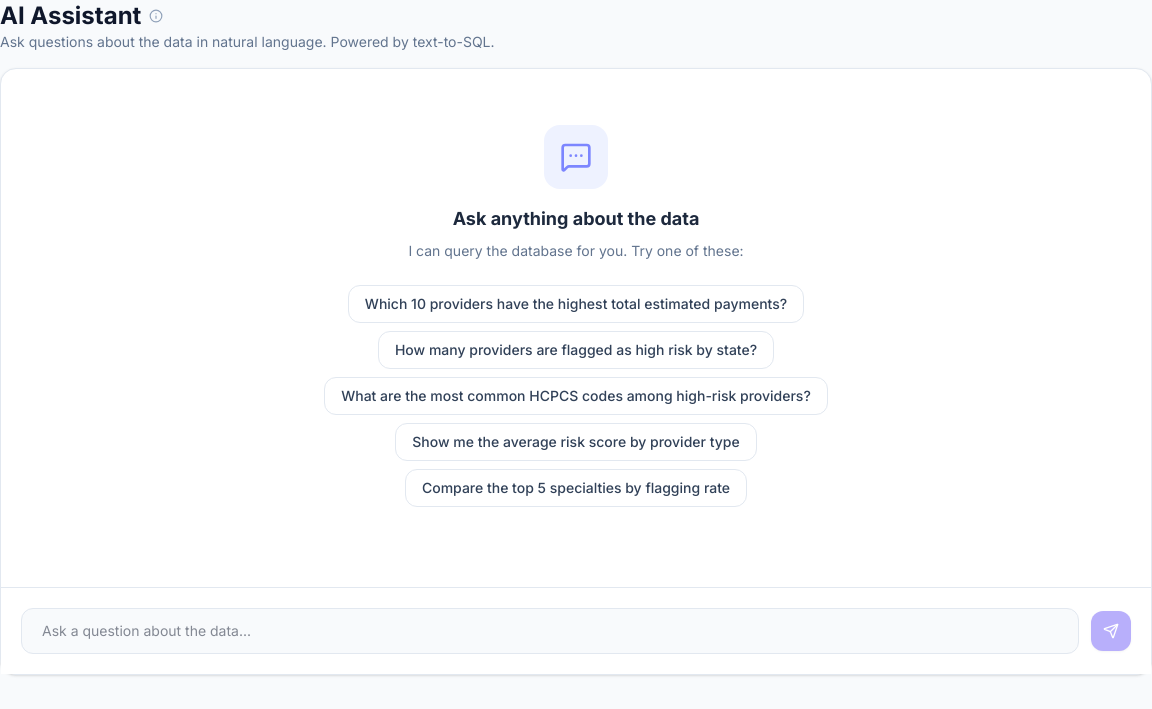
Test: Analytics › renders a pie chart response
Step 1. Click the button "Compare the top 5 specialties by flagging rate" → (576, 488), box [405, 469, 747, 507]
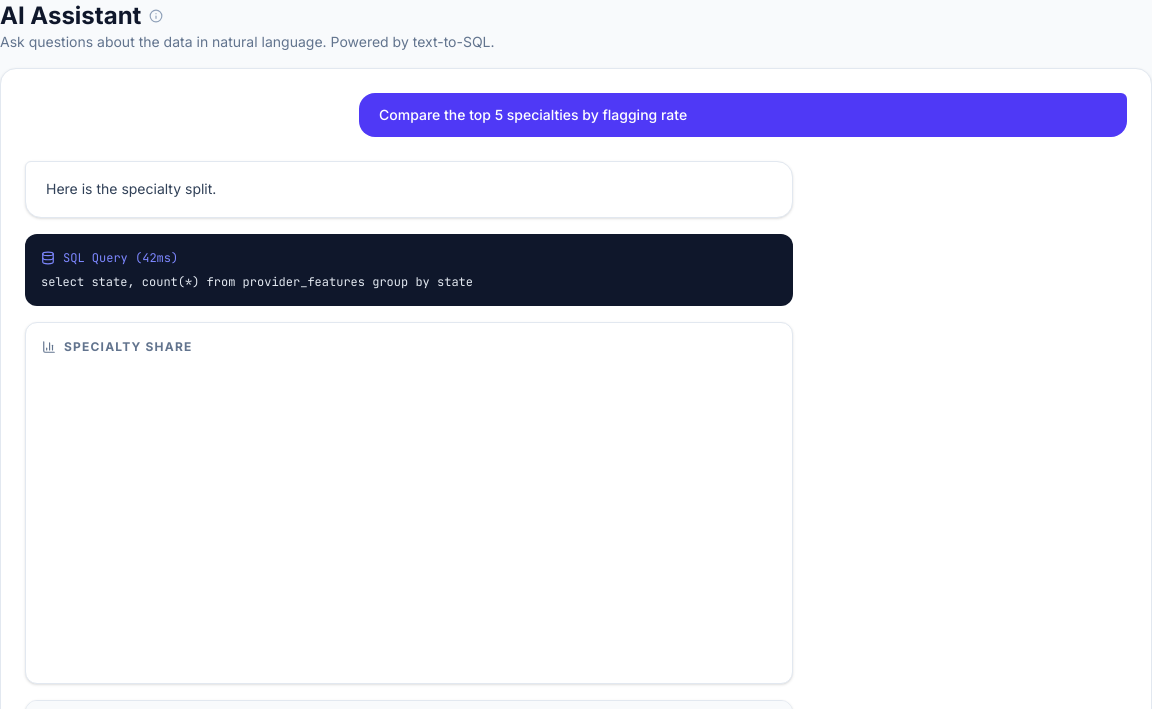
Now the text "Specialty Share" is shown, box [42, 339, 192, 354]
